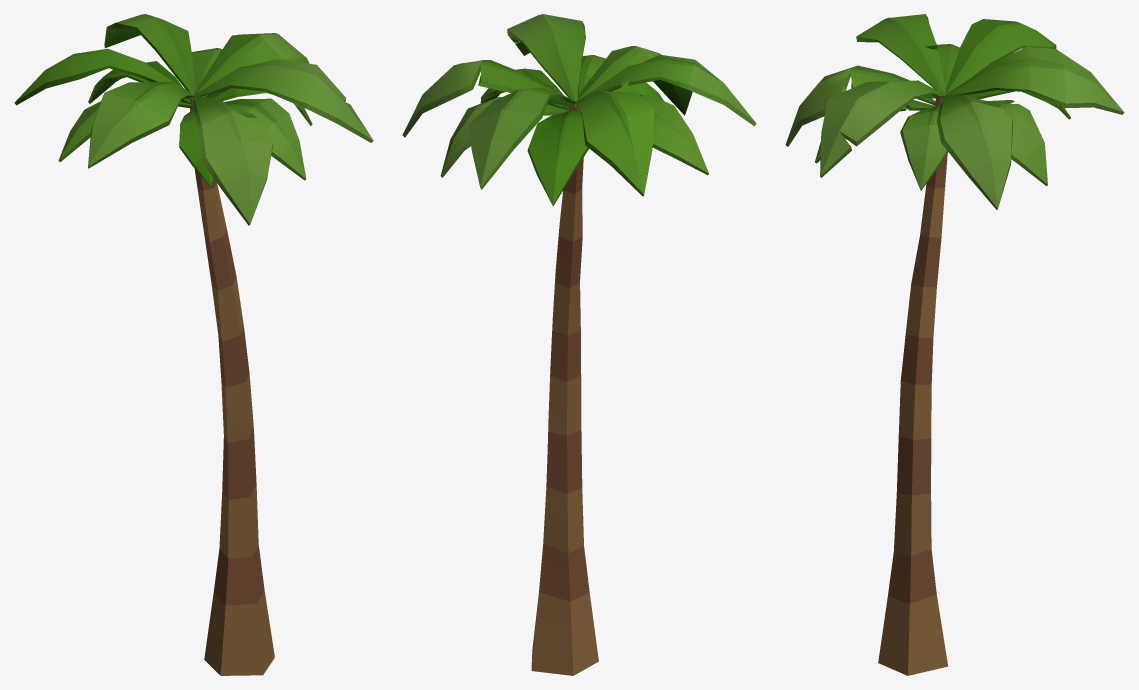
Rendered from Anim_PalmTree_Colour.fbx.
3 renders of one model, left to right at view 1: azimuth 30°, elevation 25°; view 2: azimuth 150°, elevation 25°; view 3: azimuth 270°, elevation 25°, orthographic. The views are drawn at different scales.
Parts seen in each view (by area): view 1: Anim_PalmTree_Colour; view 2: Anim_PalmTree_Colour; view 3: Anim_PalmTree_Colour.
Part boxes in pixels (left/top/right/bottom): Anim_PalmTree_Colour: left=14, top=14, right=373, bottom=675; Anim_PalmTree_Colour: left=402, top=14, right=756, bottom=675; Anim_PalmTree_Colour: left=785, top=14, right=1124, bottom=675.
Size of the model in its own units: 3.84 by 7.85 by 4.07.
